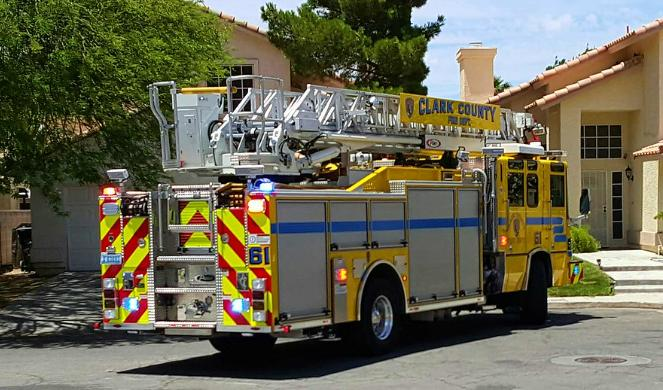firetruck_on: (98, 82, 579, 358)
